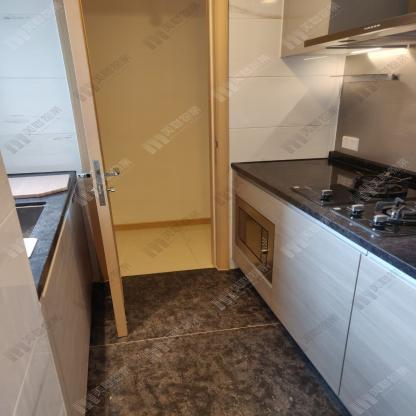Cupboard: (267, 202, 416, 415)
Exhaust Hood: (304, 12, 416, 49)
Oven: (232, 195, 280, 283)
Sink: (15, 202, 41, 260)
Stove: (294, 169, 416, 238)
